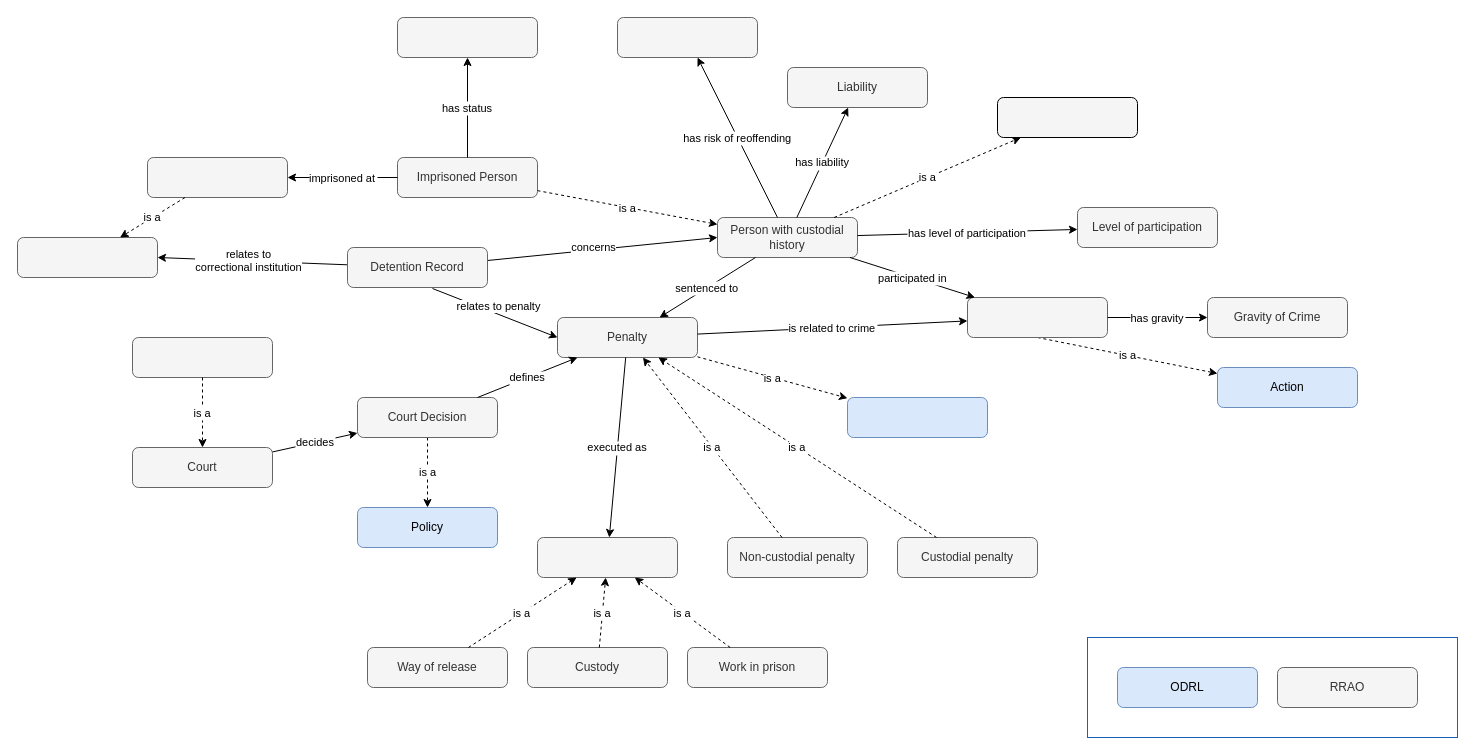
Some shapes in this 1475 by 755 pixel diagram are drawn without their labels. Each missing label, with the box of its shape:
Conviction Status: (396, 16, 538, 58)
Correctional Institution: (16, 236, 158, 278)
Crime: (966, 296, 1108, 338)
Duty: (846, 396, 988, 438)
Execution of penalty: (536, 536, 678, 578)
Penal court: (132, 336, 272, 378)
Person: (996, 96, 1138, 138)
Prison: (146, 156, 288, 198)
Reoffending Risk Assessment: (616, 16, 758, 58)
